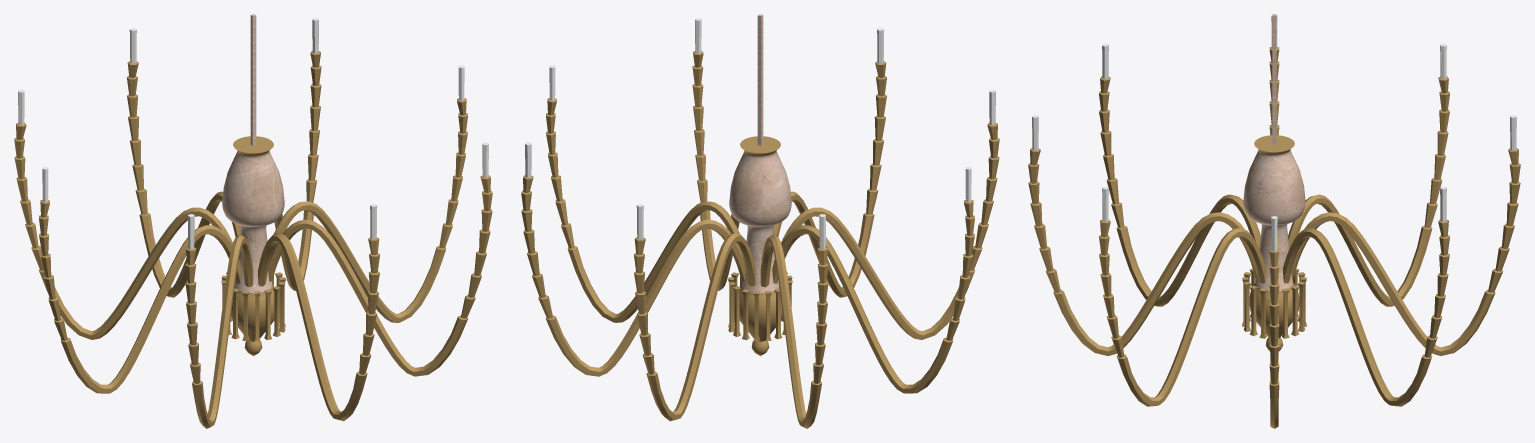
File: SM_Lustre.fbx
The picture shows the model from 3 angles, left to right: view 1: azimuth 30°, elevation 25°; view 2: azimuth 150°, elevation 25°; view 3: azimuth 270°, elevation 25°; orthographic projection.
Parts seen in each view (by area): view 1: Chandelier_1; view 2: Chandelier_1; view 3: Chandelier_1.
Part boxes in pixels (x1,y1,x2,y2): Chandelier_1: [14, 14, 492, 428]; Chandelier_1: [521, 14, 999, 428]; Chandelier_1: [1028, 14, 1520, 428].
Size of the model in its own units: 347 by 265 by 347.
